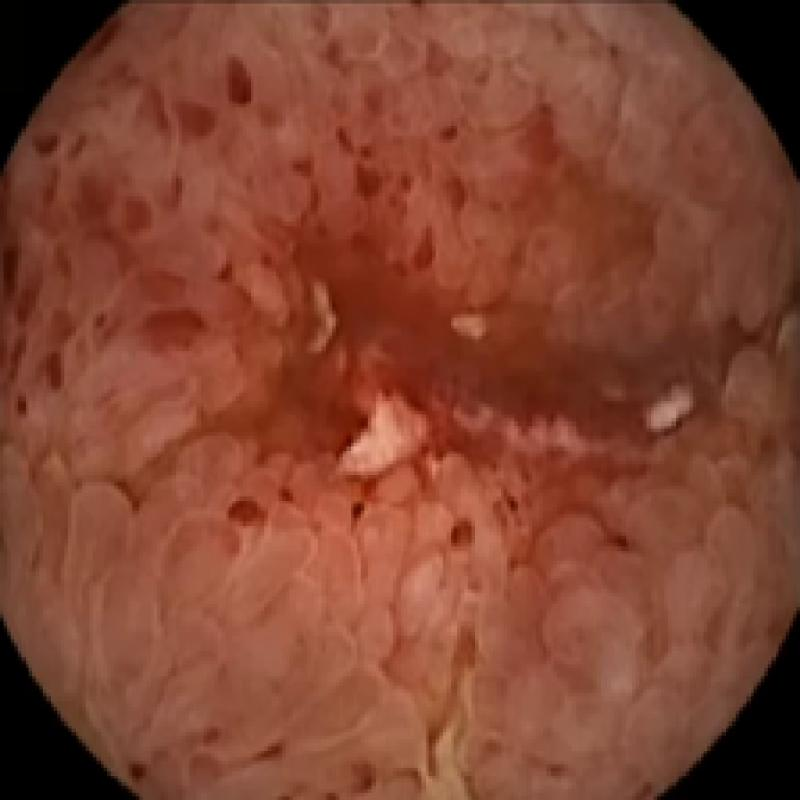bleeding: (118, 46, 778, 561)
